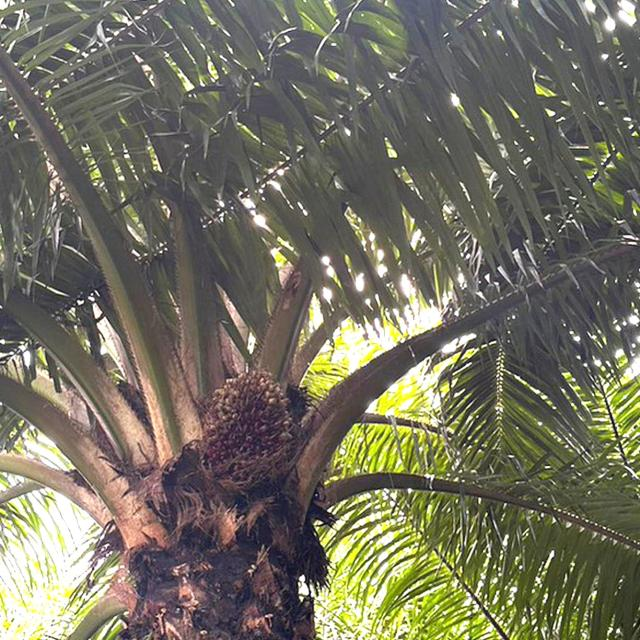ripe: (196, 366, 302, 492)
